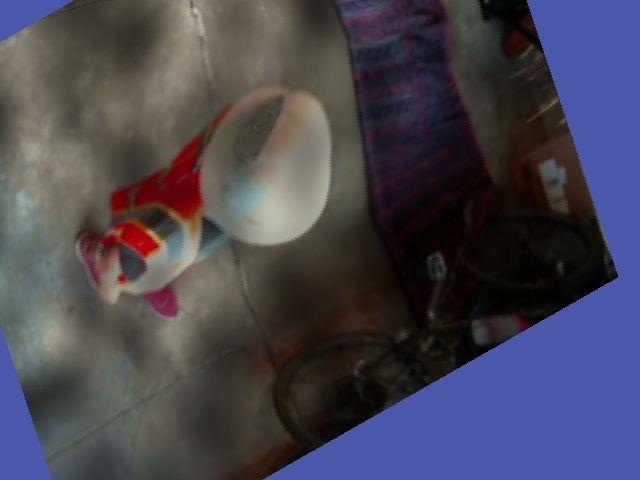two: (233, 88, 287, 169)
